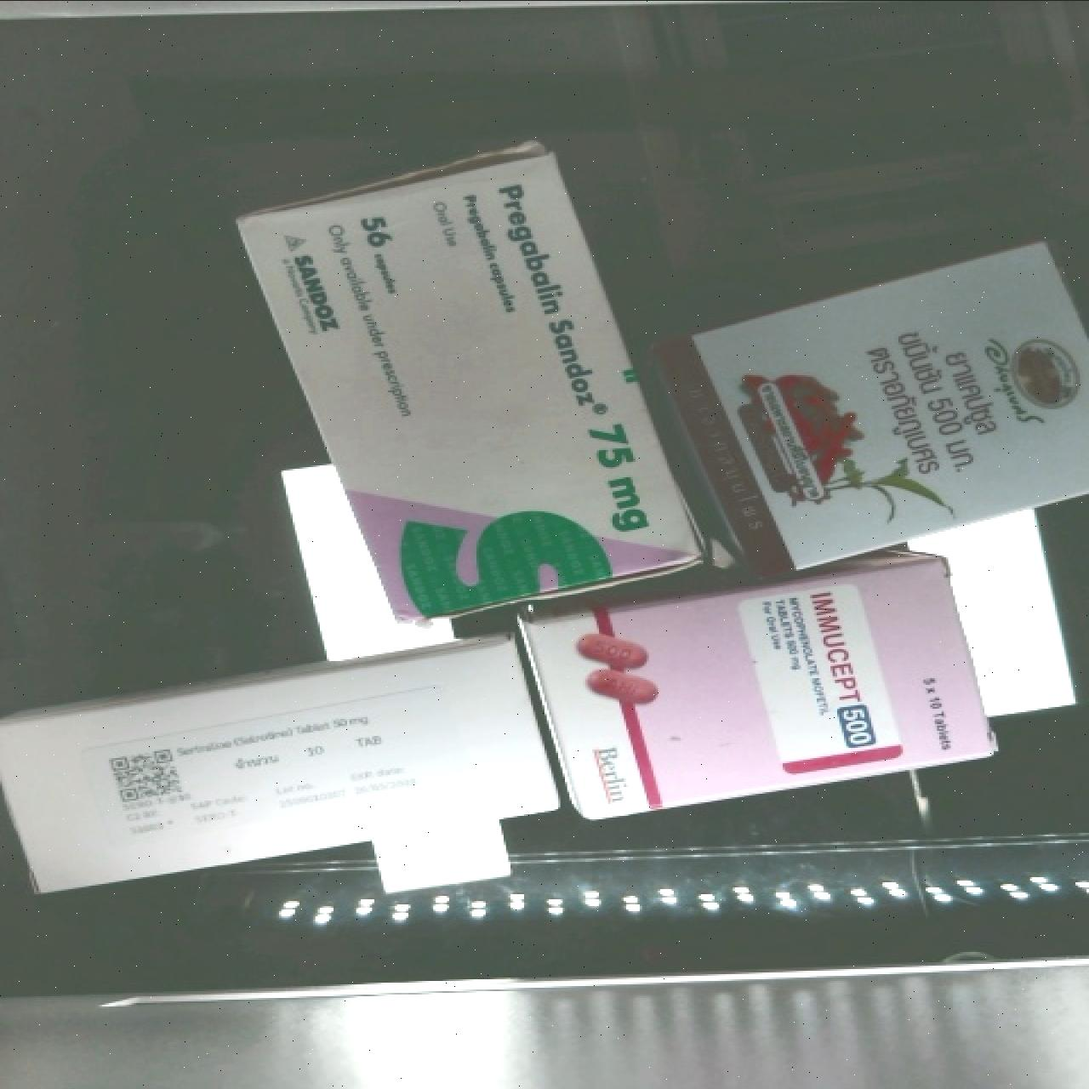medicine_label_obb: (462, 147, 691, 574), (830, 285, 1023, 515), (793, 574, 897, 767)
qr_code: (88, 730, 210, 828)
